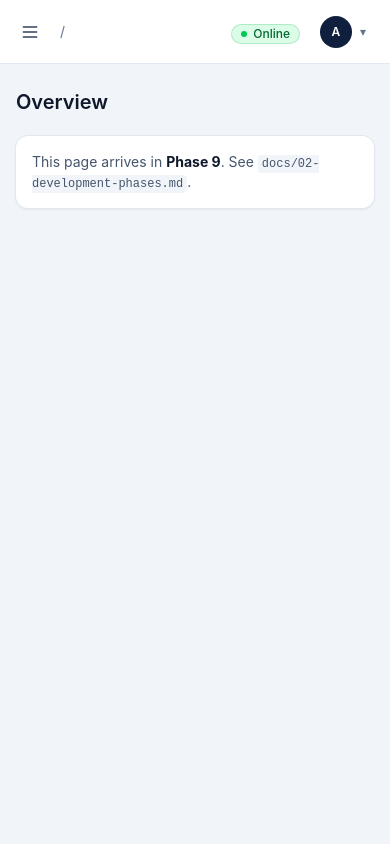
AppLayout › toggles the mobile menu button
The image size is (390, 844).
Click the button named "Open menu" at (30, 32), box [12,14,48,50]
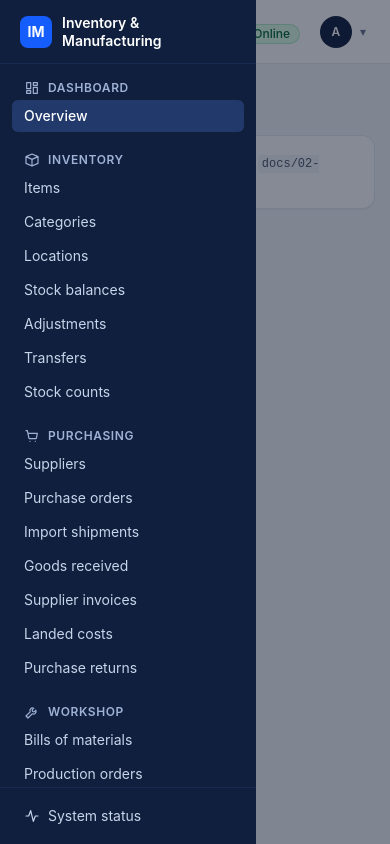
expect the button named "Close menu" is expanded: met, box [12,14,48,50]
